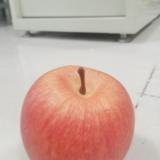apple: (19, 65, 136, 160)
